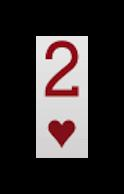2H: (41, 38, 83, 151)
